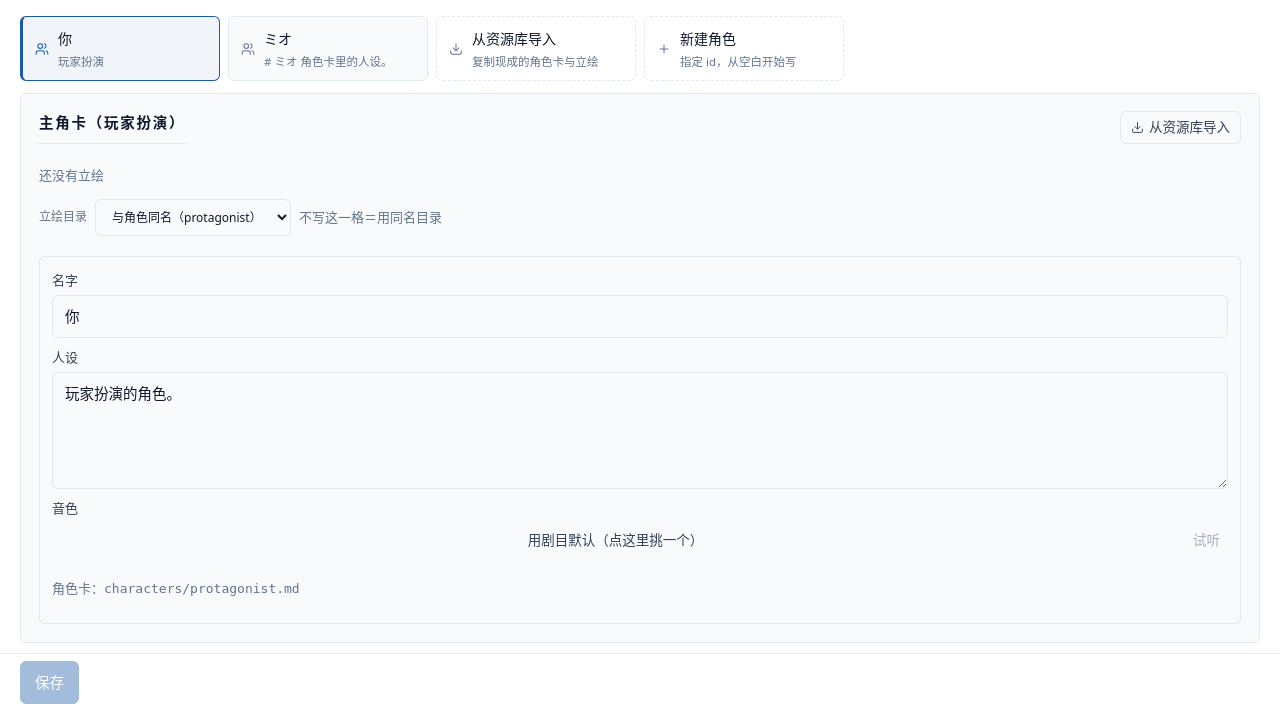
it: 角色页：真相源是角色卡 › 新建角色拒绝非法与重名的 id，不落卡
This screenshot has width=1280, height=720.
Click the button "新建角色 指定 id，从空白开始写" at point(744, 48), box [644,16,844,81]
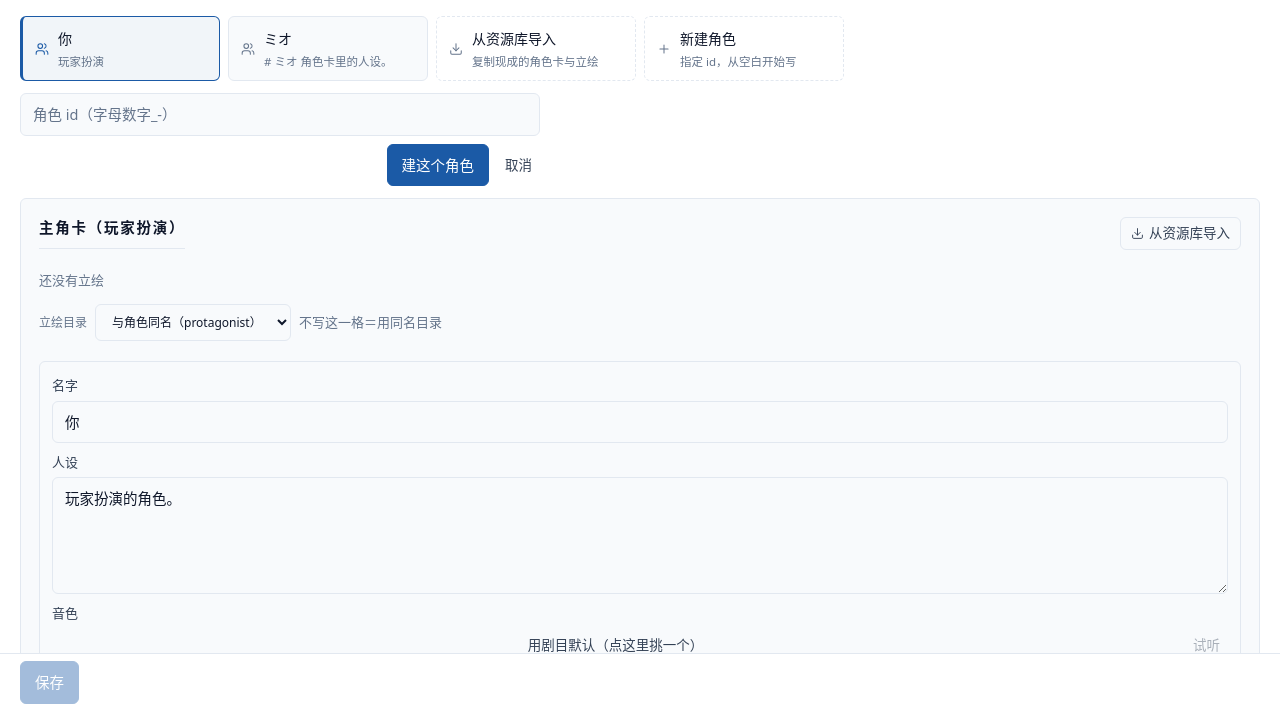
Type "有空格 的 id" into the field with placeholder "角色 id（字母数字_-）" at point(280, 114), box [20,93,540,136]
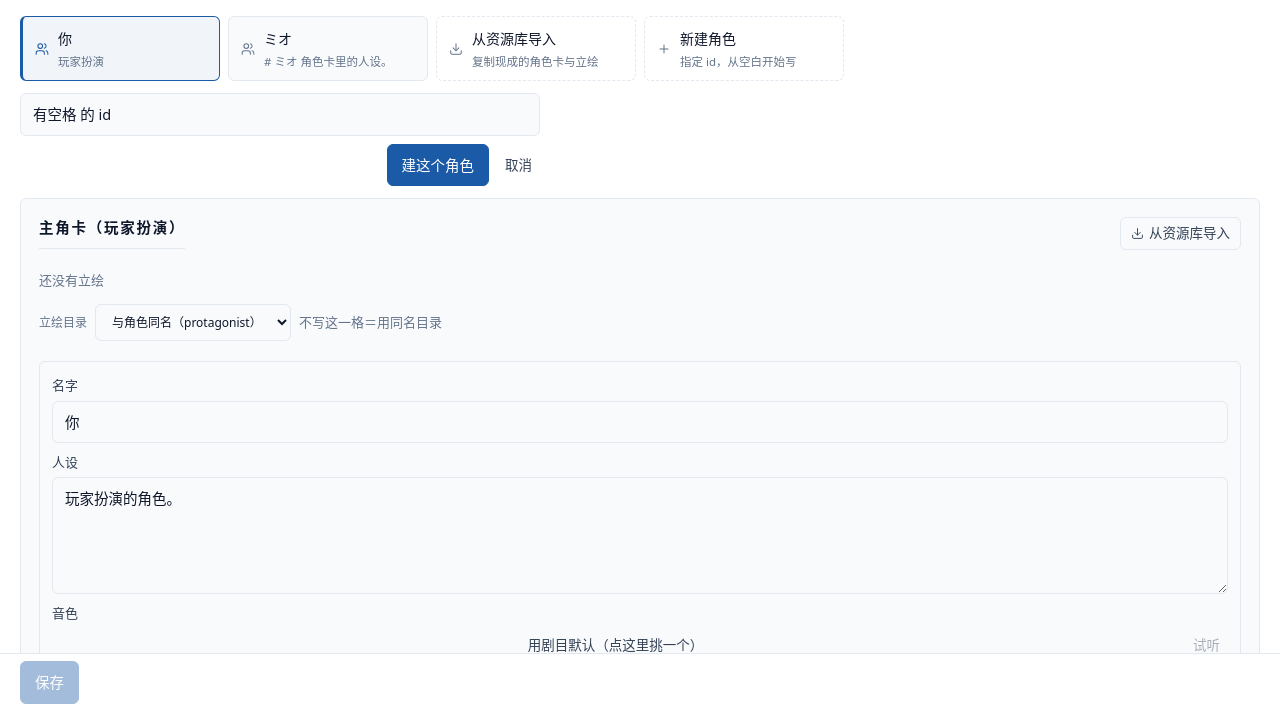
Click the button "建这个角色" at point(438, 165), box [386,144,489,186]
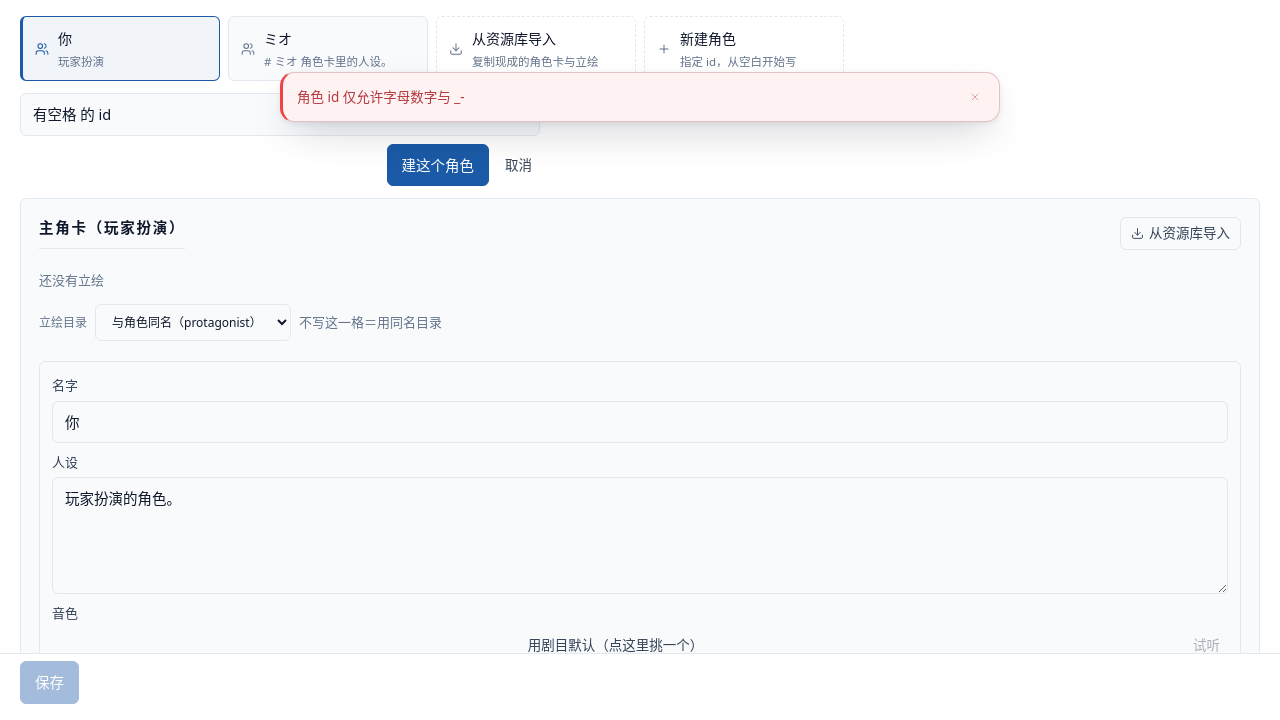
Now the text "角色 id 仅允许字母数字与 _-" is shown, box [280,72,1000,122]
Replace the text in the field with placeholder "角色 id（字母数字_-）" with "mio" at point(280, 114), box [20,93,540,136]
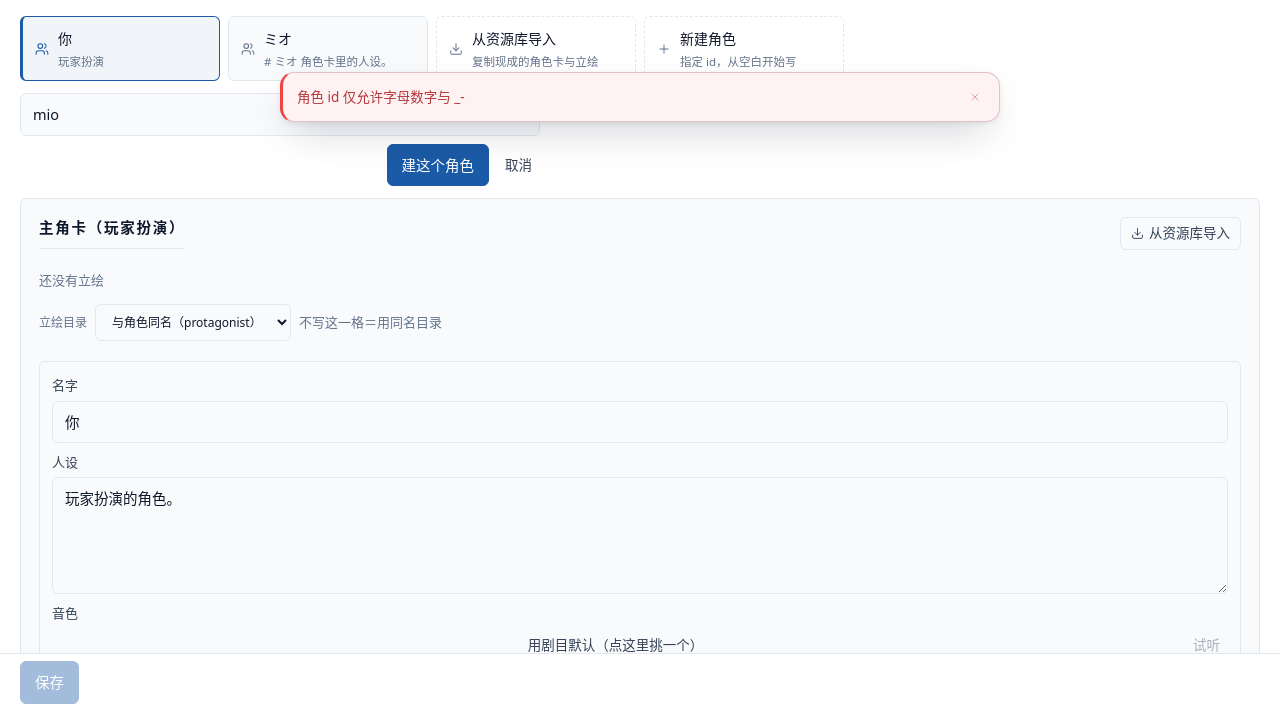
Click the button "建这个角色" at point(438, 165), box [386,144,489,186]
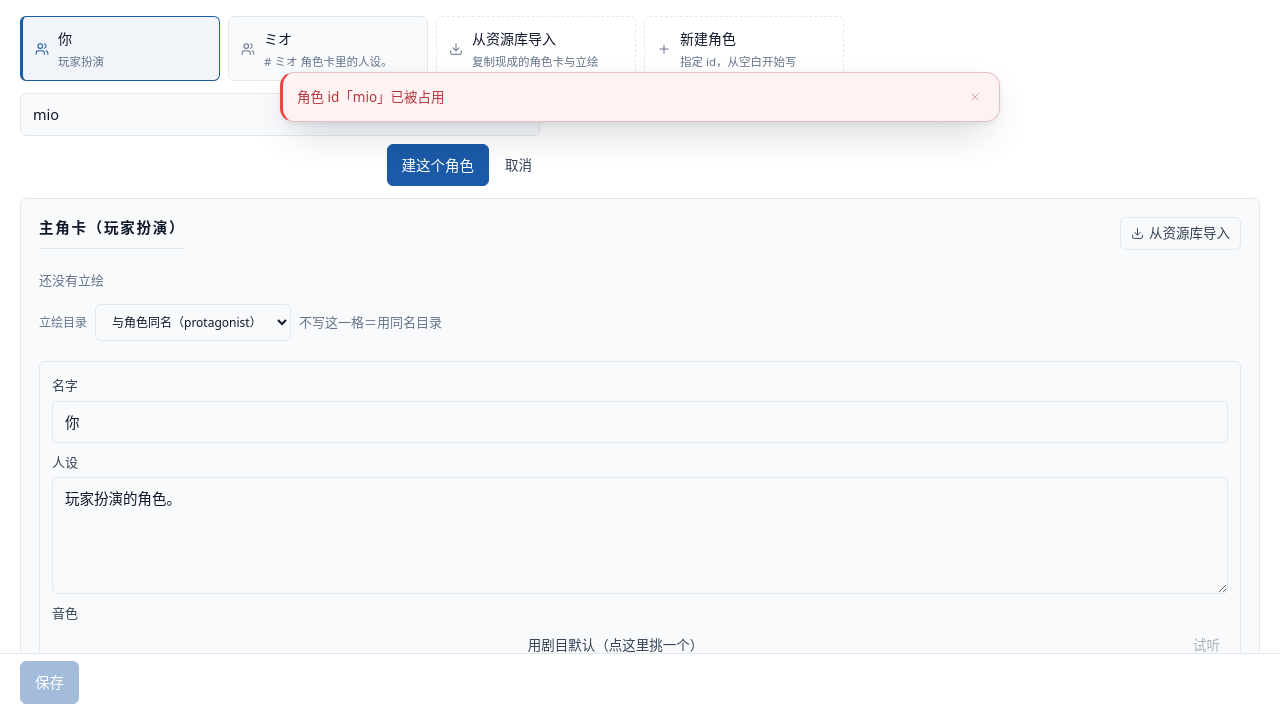
Now the text "角色 id「mio」已被占用" is shown, box [280,72,1000,122]
